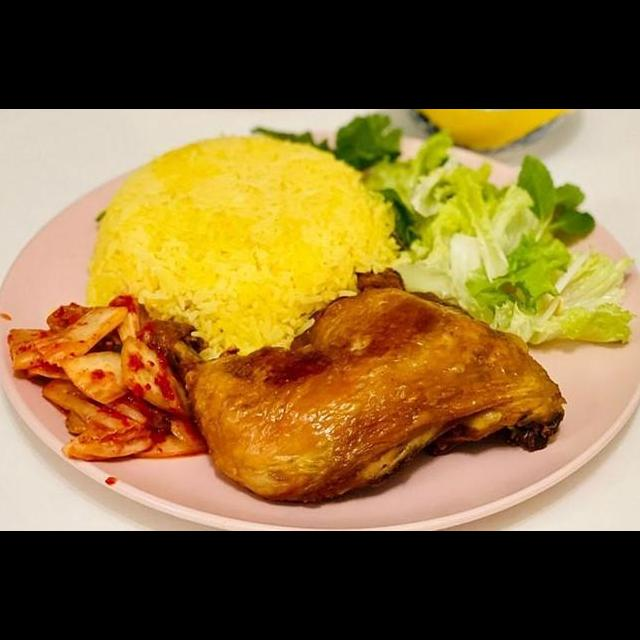com: (80, 127, 404, 364)
thit ga: (177, 266, 570, 513)
